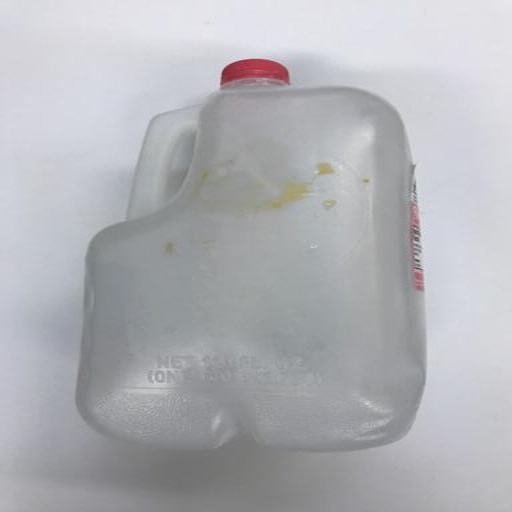Plastic_1: (74, 57, 428, 452)
